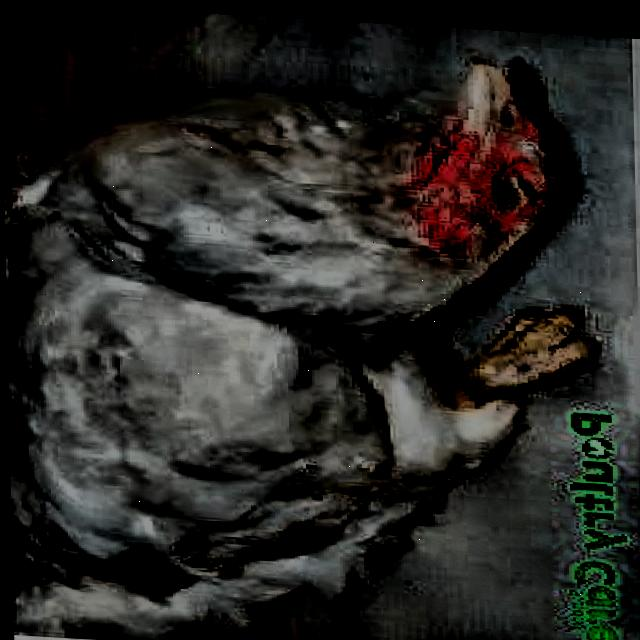Newcastle: (6, 28, 594, 640)
